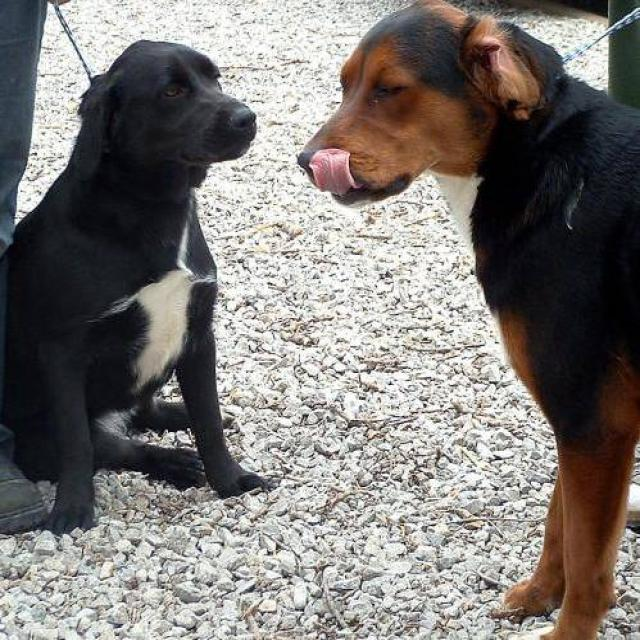dog: (295, 0, 639, 639), (0, 38, 271, 536)
